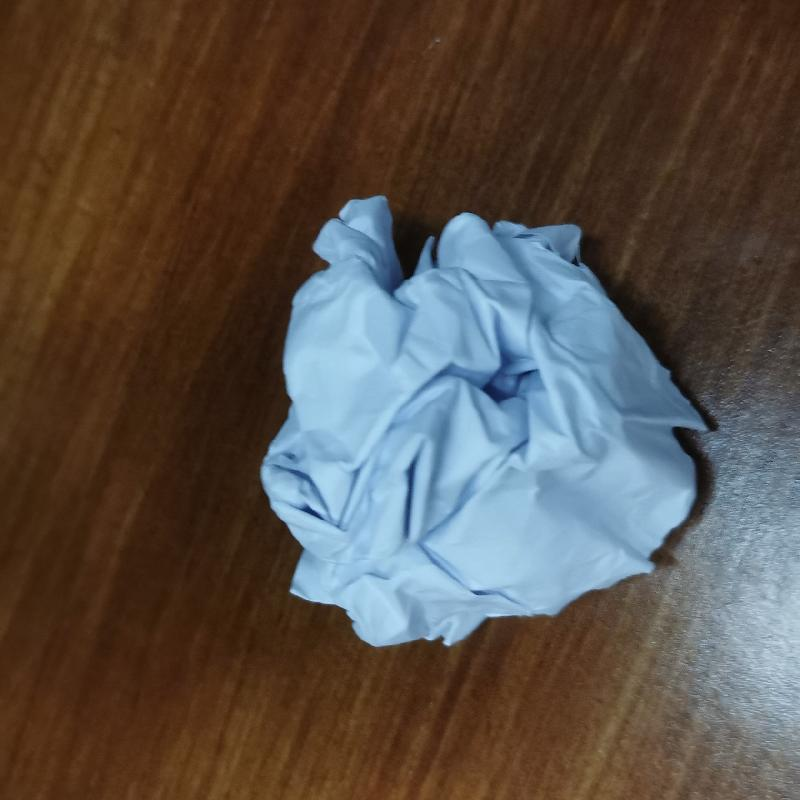spitball: (254, 190, 715, 654)
